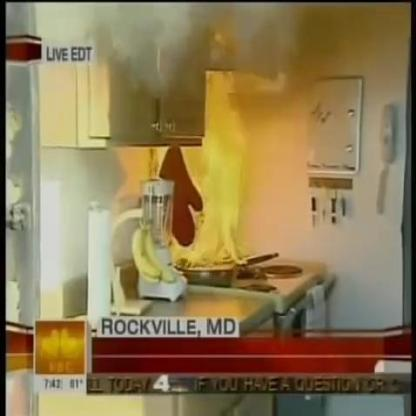fire: (157, 145, 252, 266), (204, 69, 289, 144)
